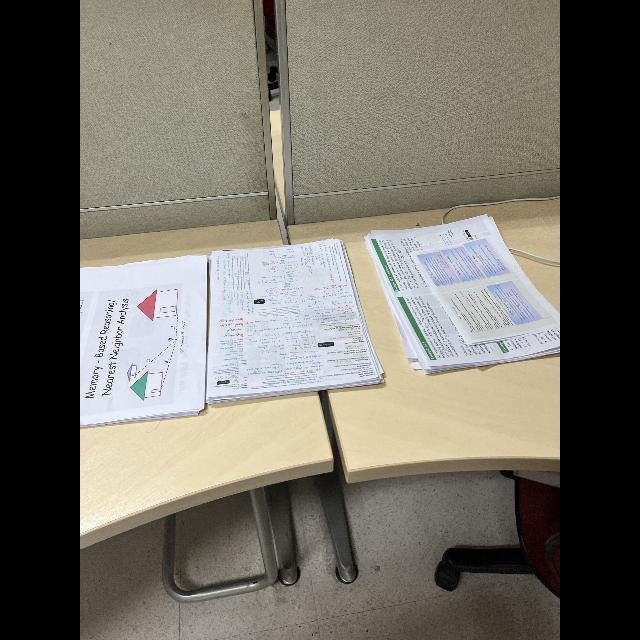reuseable_paper: (80, 234, 384, 432), (360, 208, 560, 382)
